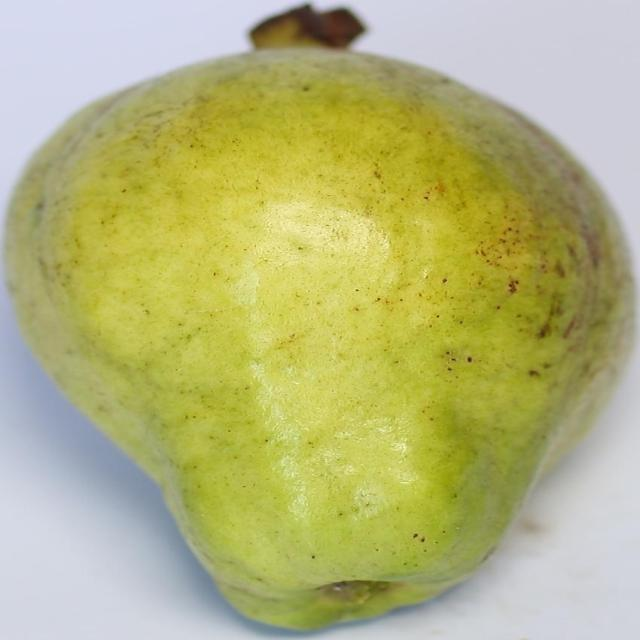Good_Guava: (0, 42, 637, 635)
